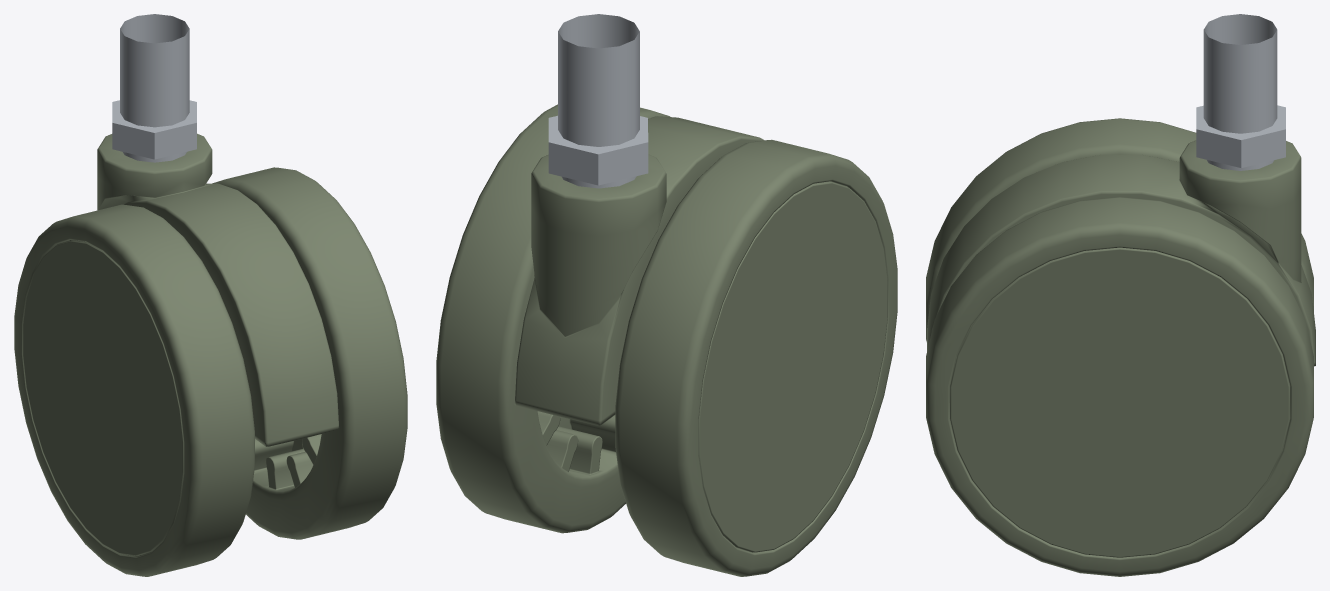
File: wheels-standard.glb
3 views of the same model, side by side, from view 1: azimuth 30°, elevation 25°; view 2: azimuth 150°, elevation 25°; view 3: azimuth 270°, elevation 25° (orthographic). The views are drawn at different scales.
Visible parts, largest first — view 1: C-Moon Wheels; view 2: C-Moon Wheels; view 3: C-Moon Wheels.
Part boxes in pixels (x1,y1,x2,y2): C-Moon Wheels: (14, 14, 407, 576); C-Moon Wheels: (436, 14, 897, 576); C-Moon Wheels: (926, 14, 1315, 576).
Bounding box in the file's own units: 0.0373 × 0.0774 × 0.0552.
